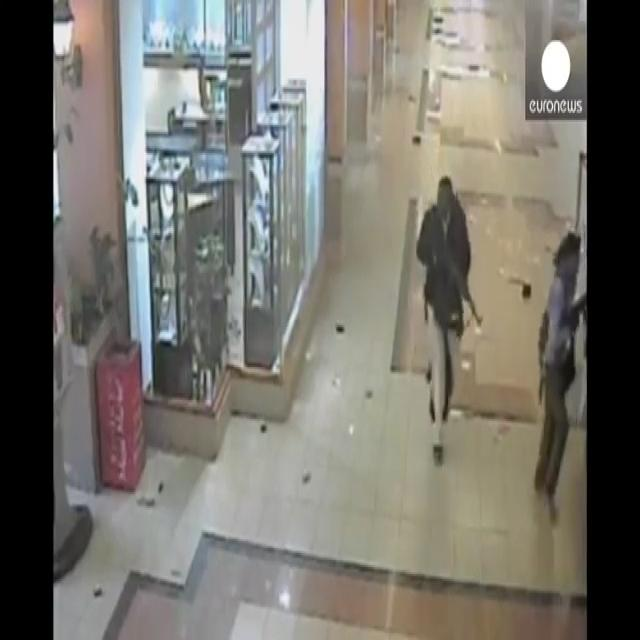Weapon: (426, 217, 494, 344), (566, 277, 592, 337)
